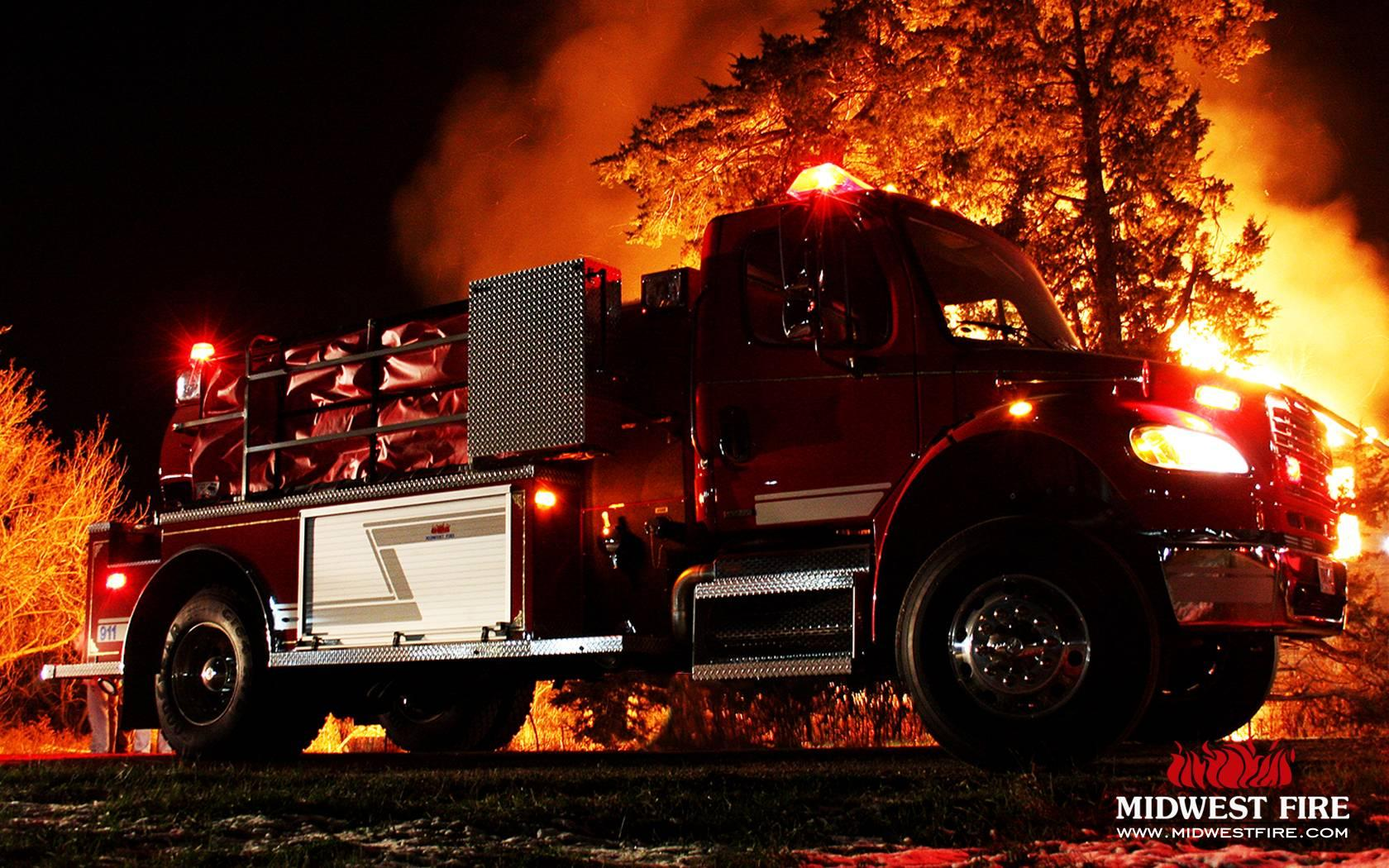Fire-engine: (39, 162, 1384, 769)
